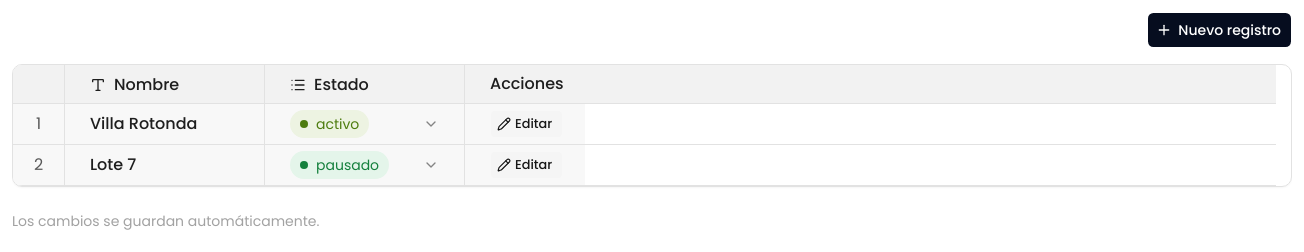
Test: autosave › survives a Server Action that rejects outright
Double-click the text "Villa Rotonda".
double_click(144, 124)  # box [90, 112, 197, 136]
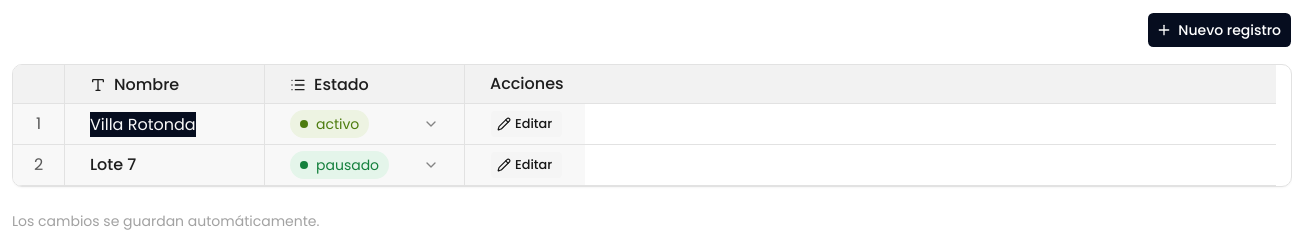
Replace the text in the field showing "Villa Rotonda" with "Villa Norte" at (164, 124), box [65, 104, 264, 144]
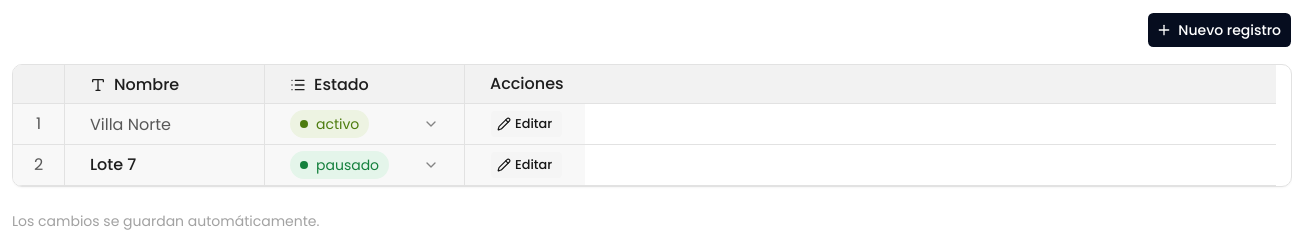
Press Tab
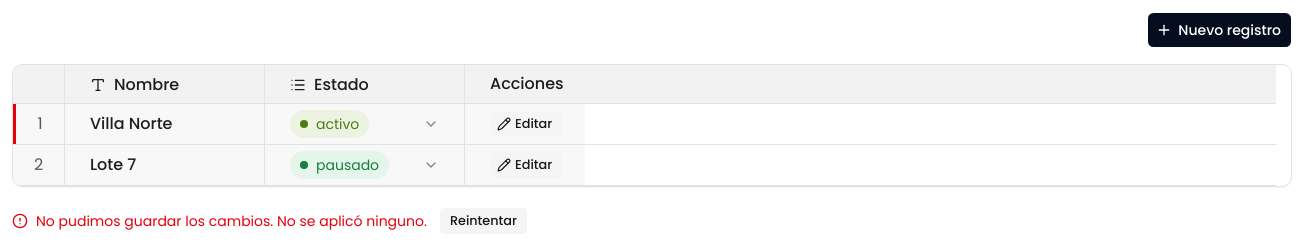
Now the message reads "No pudimos guardar los cambios. No se aplicó ninguno.", box [36, 211, 427, 231]
Now the button "Reintentar" is shown, box [439, 207, 528, 235]
